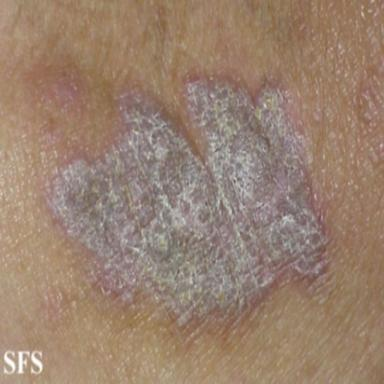lichen: (44, 71, 336, 327), (26, 52, 90, 121)
